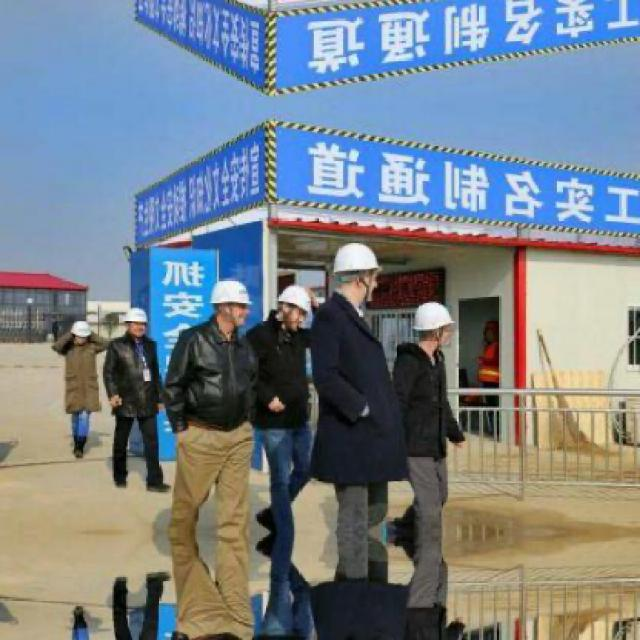helmet: (329, 240, 385, 306), (208, 274, 252, 329), (412, 297, 452, 348), (276, 282, 312, 326), (118, 303, 150, 342), (69, 319, 91, 346)
